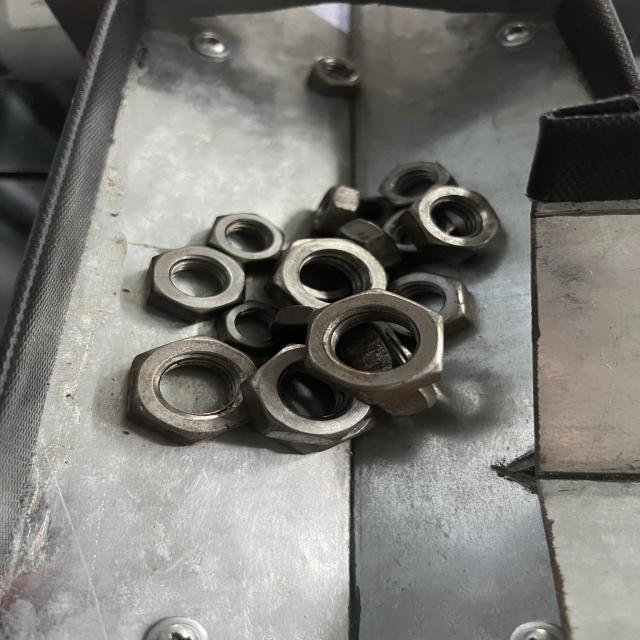nut: (304, 289, 446, 402), (129, 335, 253, 450), (149, 245, 246, 321), (407, 184, 503, 254)
